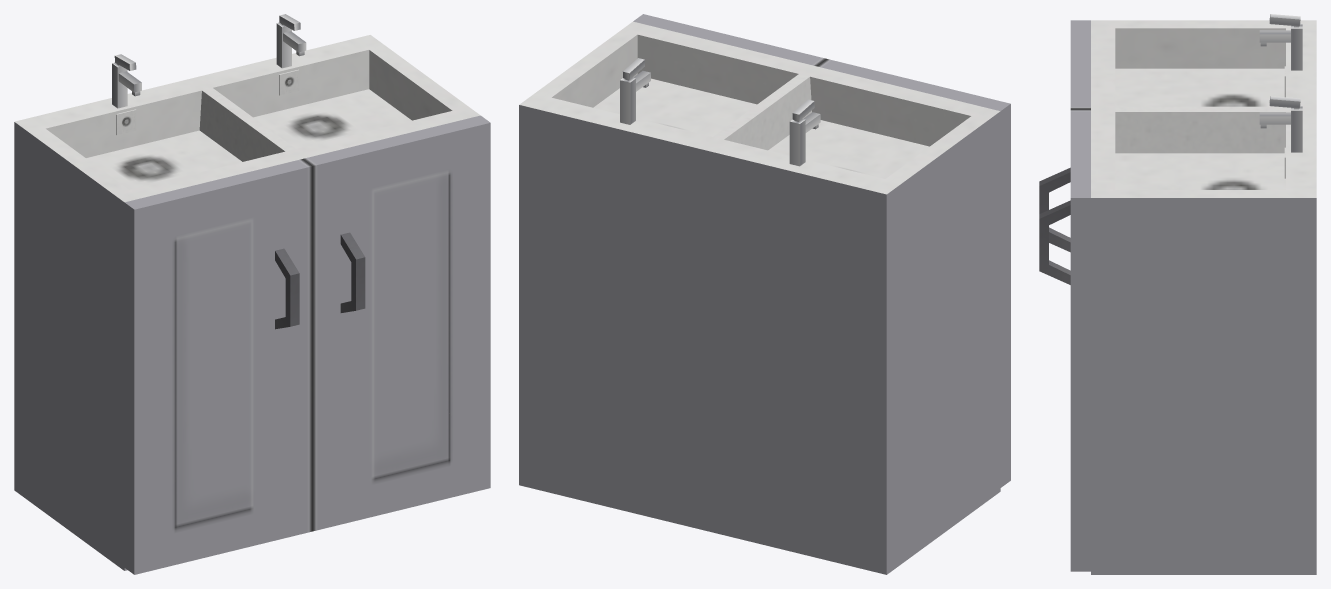
Rendered from Kitchen_Cabinet_2E.fbx.
3 renders of one model, left to right at view 1: azimuth 30°, elevation 25°; view 2: azimuth 150°, elevation 25°; view 3: azimuth 270°, elevation 25°, orthographic. The views are drawn at different scales.
Parts seen in each view (by area): view 1: polySurface975; view 2: polySurface975; view 3: polySurface975.
Boxes of the visible parts, bbox=[...] form: polySurface975: bbox=[14, 14, 490, 574]; polySurface975: bbox=[519, 14, 1010, 574]; polySurface975: bbox=[1039, 14, 1316, 574].
Bounding box in the file's own units: 1.3 × 1.46 × 0.8565.
